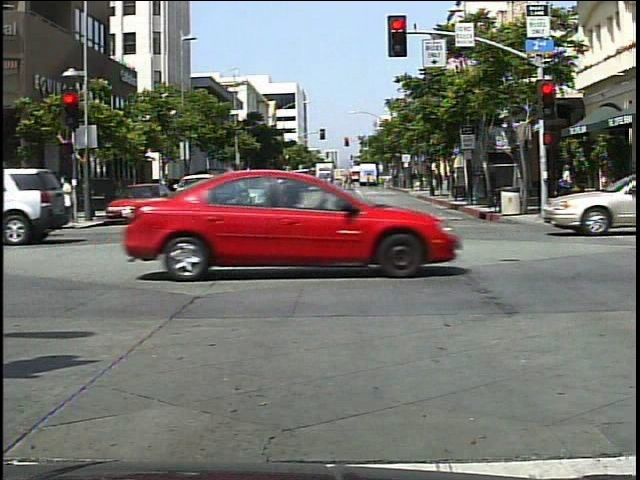person: (54, 171, 86, 235), (556, 162, 578, 202)
